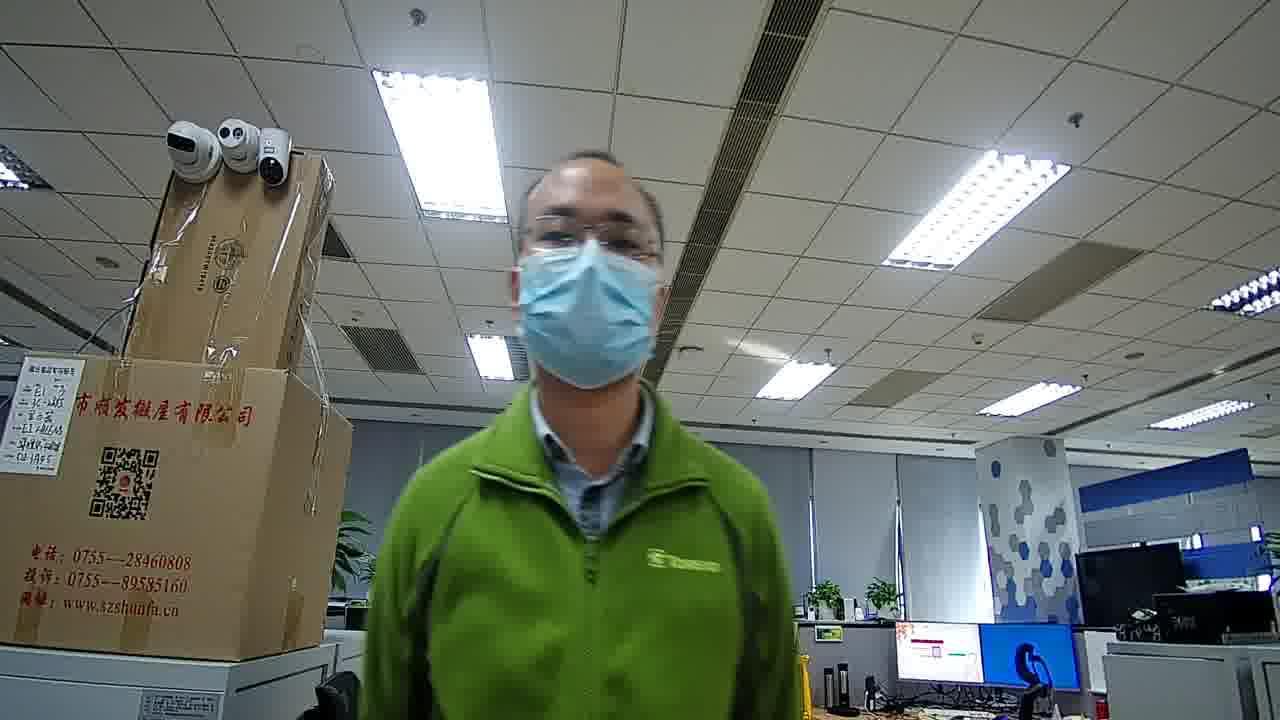face: (521, 174, 655, 389)
mask: (517, 244, 660, 389)
person: (381, 154, 786, 531)
